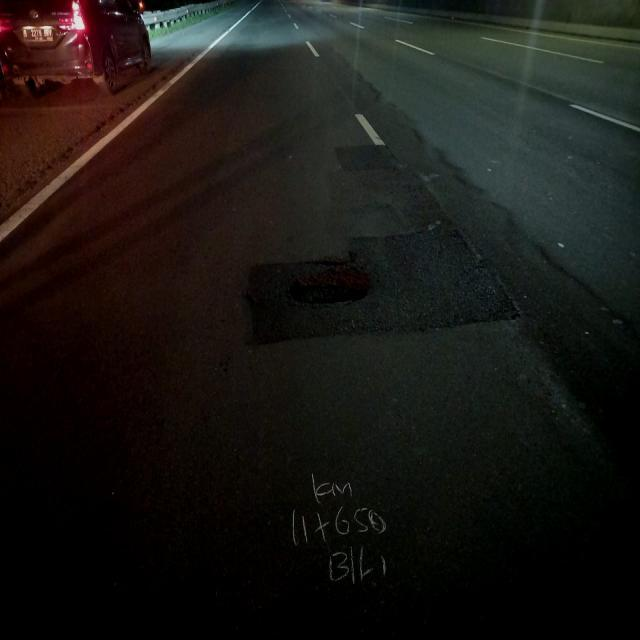Buraco: (277, 249, 377, 309)
